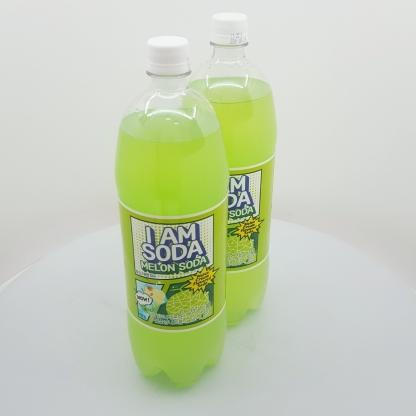-----------: (114, 36, 229, 387), (180, 12, 277, 326)
